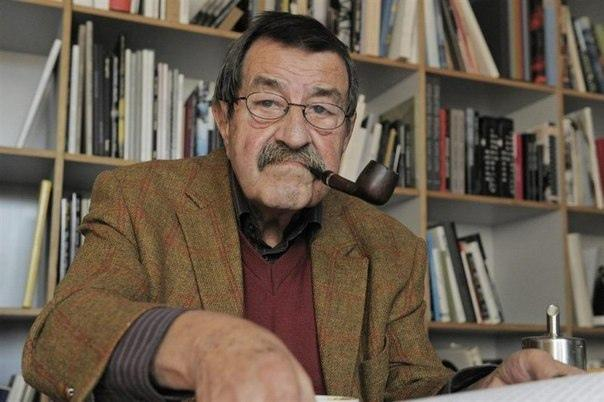trubka: (312, 160, 398, 205)
